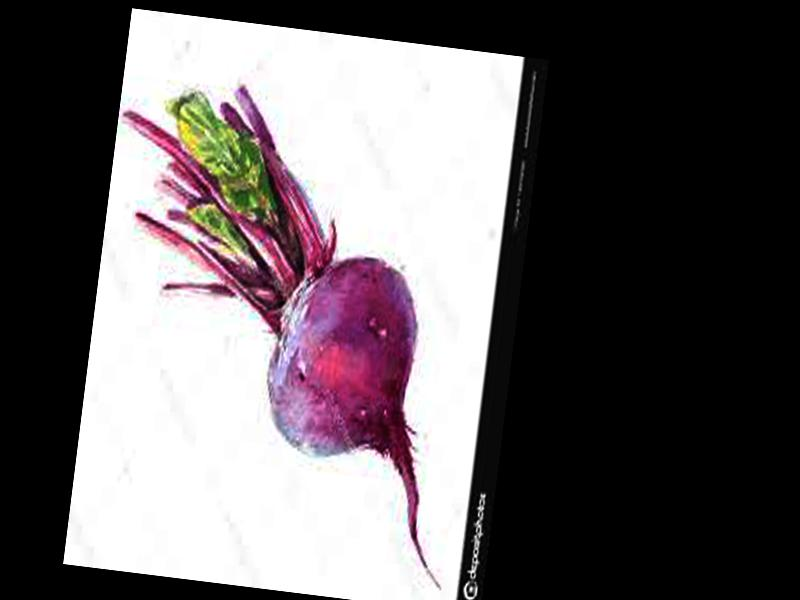Beet: (69, 72, 498, 587)
